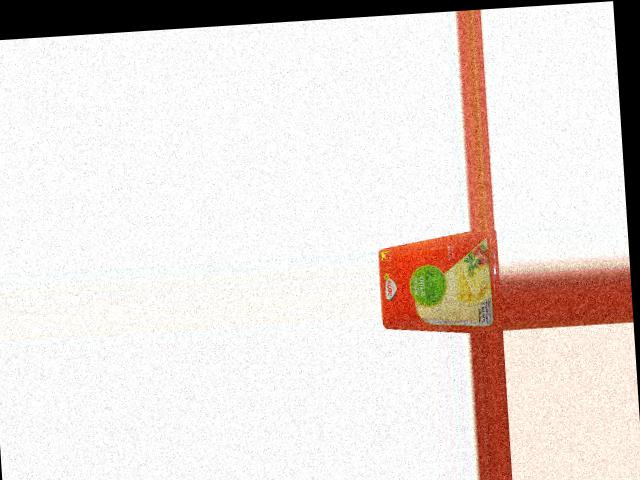cheese: (377, 228, 503, 336)
